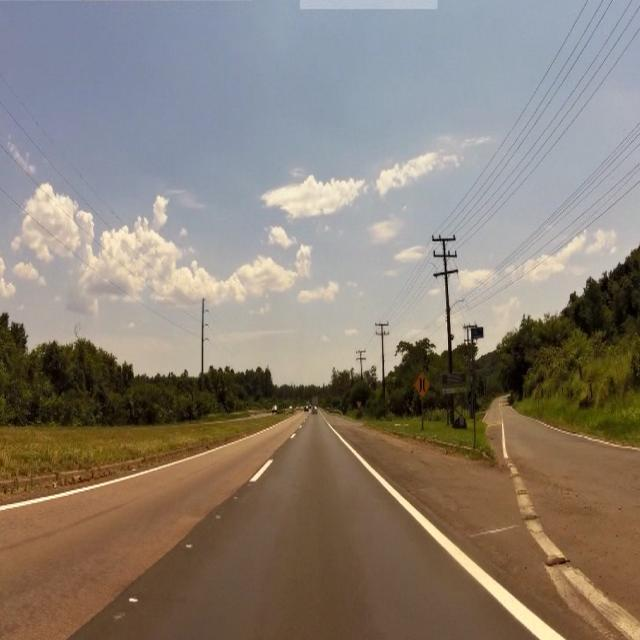A-22: (415, 376, 431, 399)
